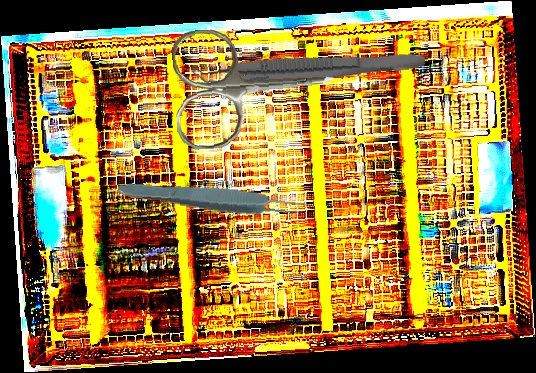Iris Scissors: (170, 21, 339, 151)
Tissue Forceps: (191, 38, 426, 95), (116, 176, 311, 223)
